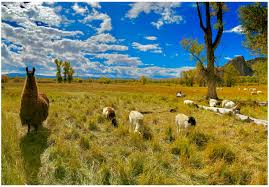sheep: (20, 67, 50, 134), (99, 106, 117, 132), (128, 109, 144, 138), (175, 114, 195, 137), (202, 103, 218, 115), (235, 112, 251, 124), (253, 118, 269, 130), (183, 99, 197, 112), (221, 98, 234, 112), (243, 88, 263, 97), (207, 96, 219, 109), (174, 91, 186, 99)
